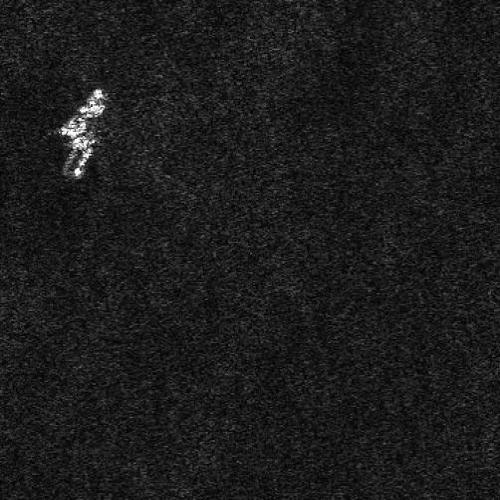ship: (61, 89, 105, 143), (63, 135, 93, 179)
